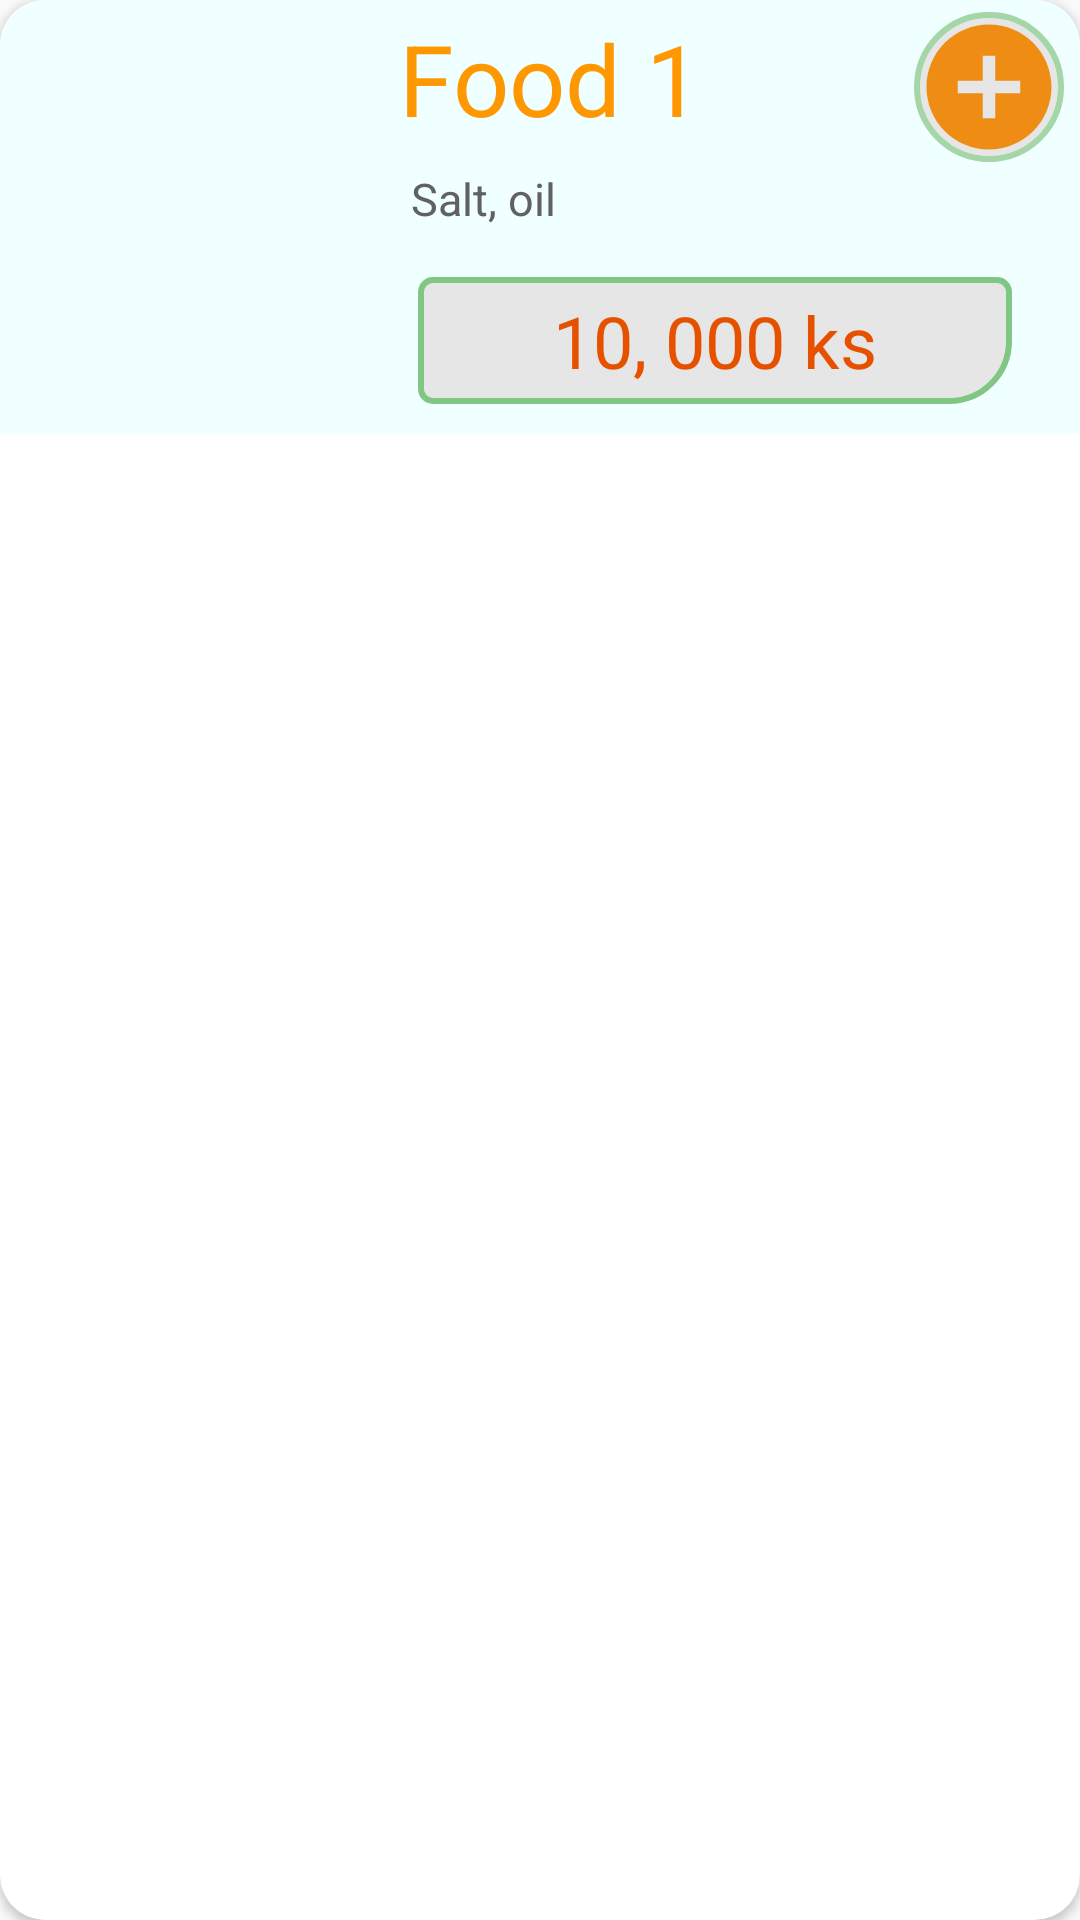

Locate icon controls on the screen. Image size 1080 × 1920, boxes as (x1, y1, x2, y2).
add: (914, 12, 1064, 162)
